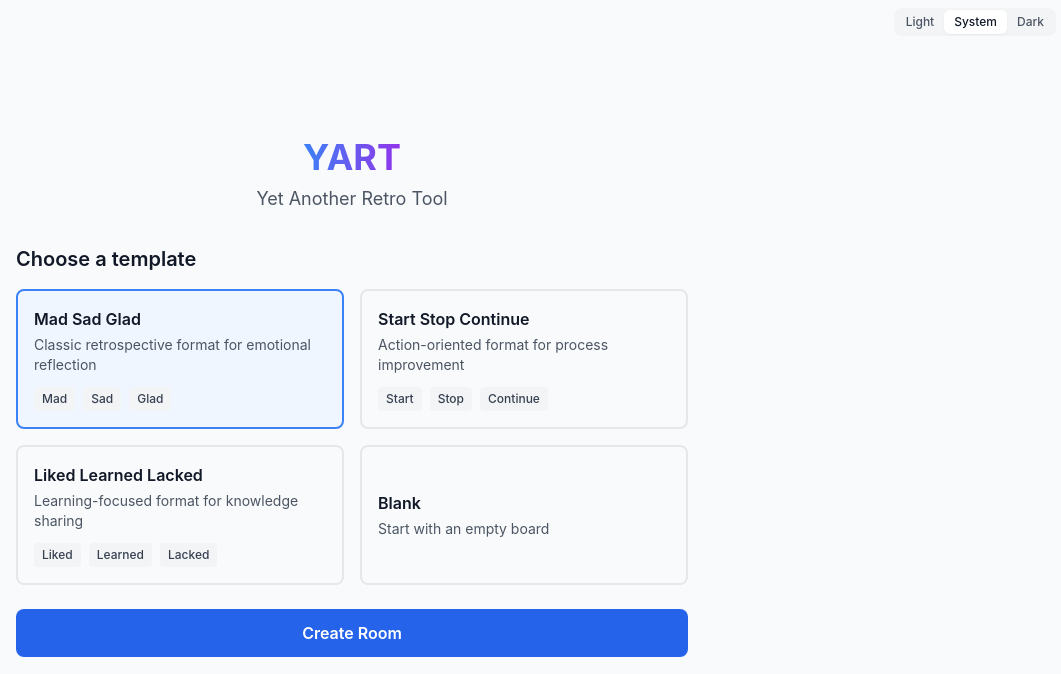
Test: Landing › shows creating state while request is in progress
Click the button with test id "create-room-btn".
click(352, 633)  # box x1=16 y1=609 x2=688 y2=657
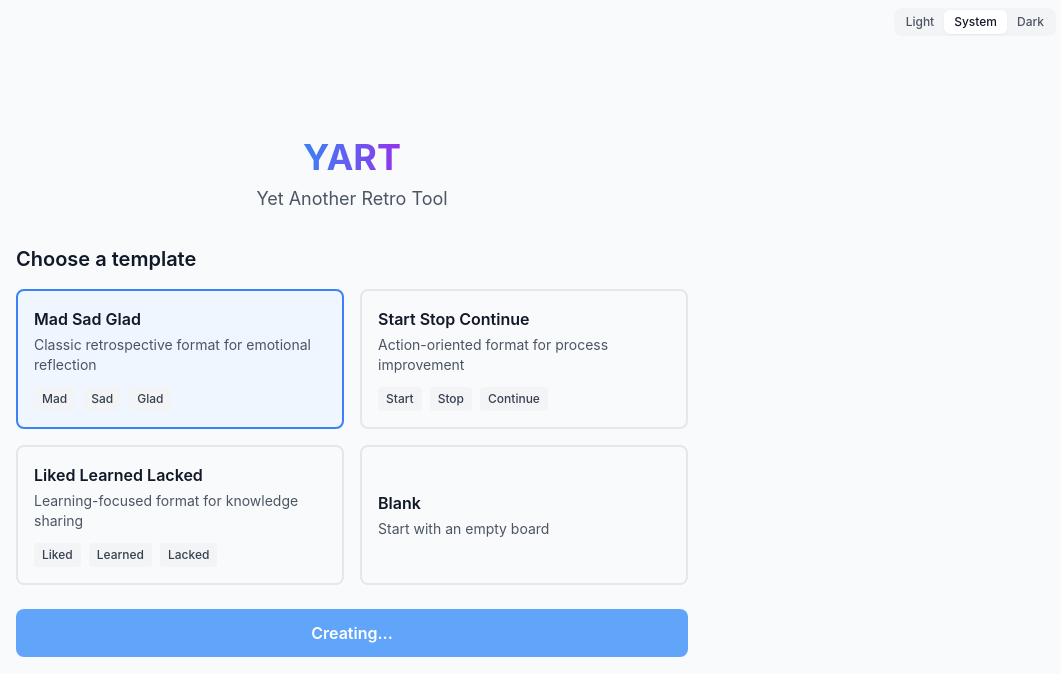
Expected: the button with test id "create-room-btn" reads "Creating...", x1=16 y1=609 x2=688 y2=657
Expected: the button with test id "create-room-btn" is disabled, x1=16 y1=609 x2=688 y2=657
